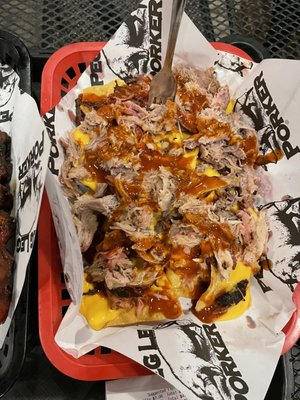sandwich: (54, 41, 276, 332)
